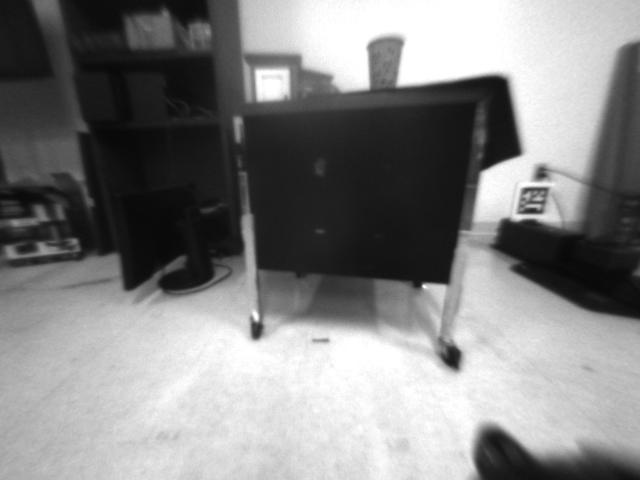coffee_cup: (363, 35, 408, 92)
